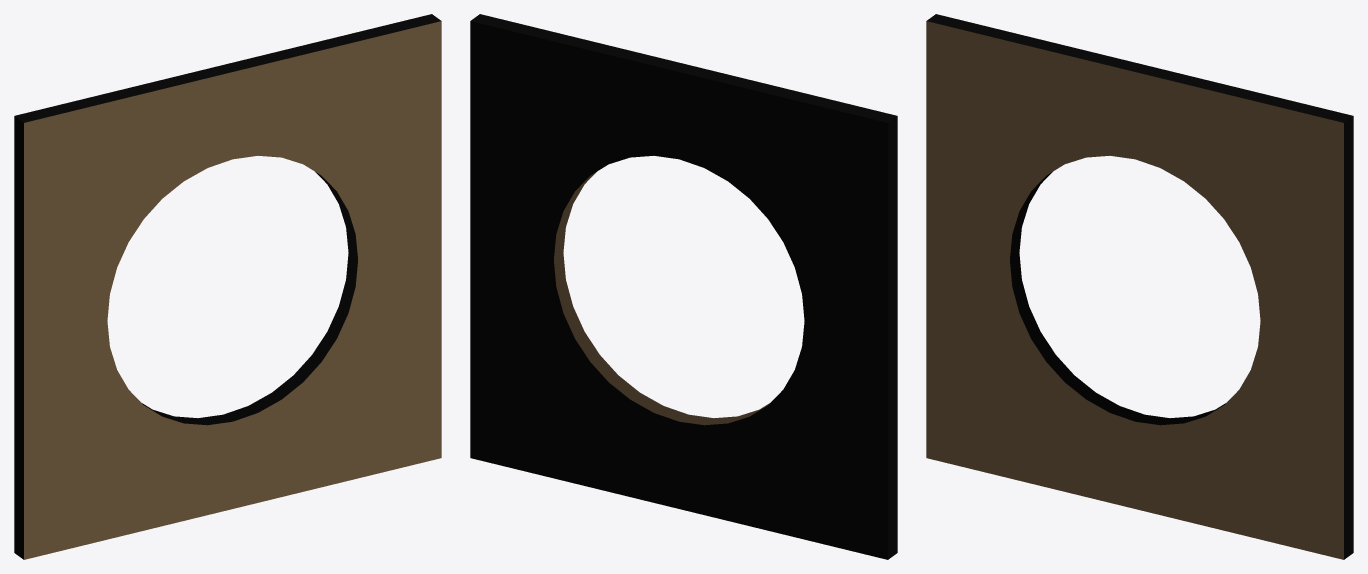
Rendered from New_Porthole.fbx.
3 views of the same model, side by side, from view 1: azimuth 30°, elevation 25°; view 2: azimuth 150°, elevation 25°; view 3: azimuth 330°, elevation 25° (orthographic).
Parts seen in each view (by area): view 1: M_Wall_PortHole; view 2: M_Wall_PortHole; view 3: M_Wall_PortHole.
Part boxes in pixels (x1,y1,x2,y2): M_Wall_PortHole: [14, 14, 441, 559]; M_Wall_PortHole: [470, 14, 897, 559]; M_Wall_PortHole: [926, 14, 1353, 559].
Size of the model in its own units: 500 by 500 by 20.
